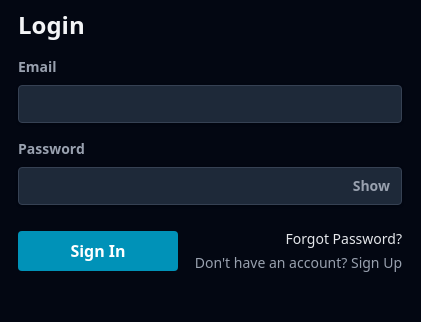
LoginForm › validates password length
Step 1. Type "test@example.com" into the field labelled "Email" → (210, 104), box x1=18 y1=85 x2=402 y2=123
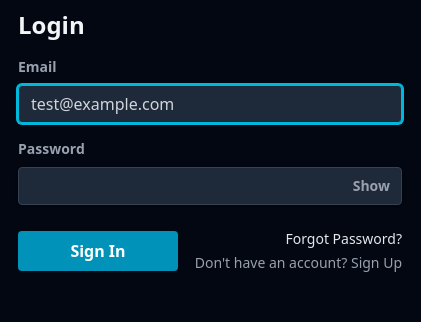
Step 2. Type "short" into the password field labelled "Password" → (210, 186), box x1=18 y1=167 x2=402 y2=205
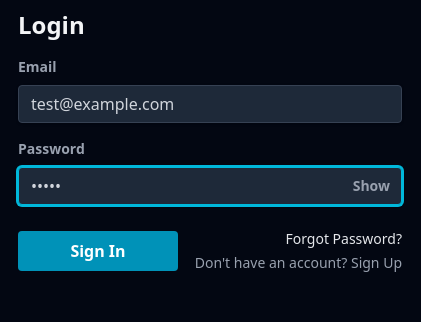
Step 3. Click the button "Sign In" → (98, 251), box x1=18 y1=231 x2=178 y2=271
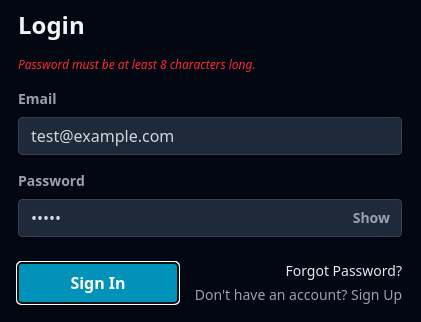
expect the text "Password must be at least 8 characters long." is shown: met, box x1=18 y1=56 x2=256 y2=73
